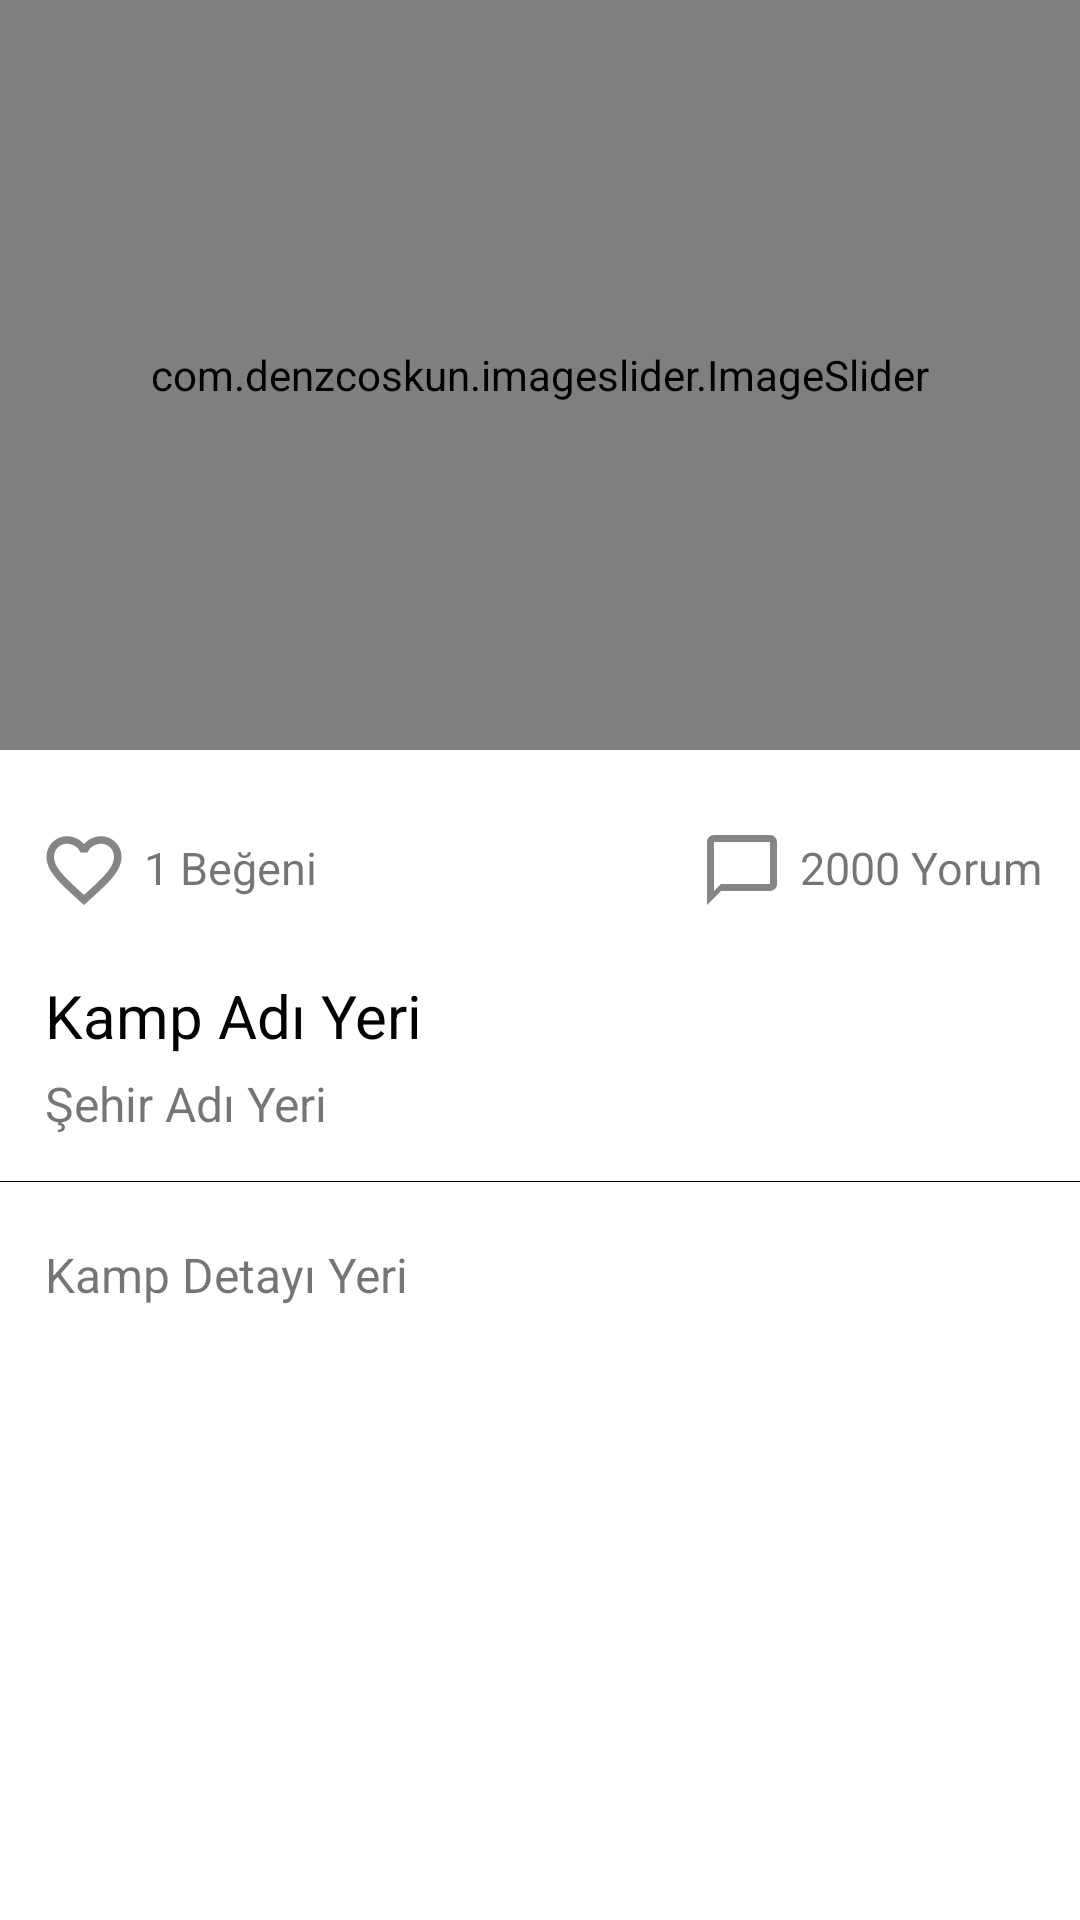

Screen size 1080px x 1920px. Icon name, then its center in pixels as (x,y):
like: (84,870)
